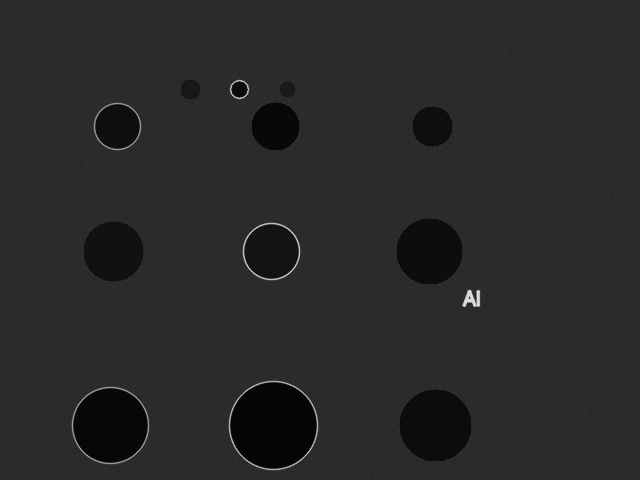hole: (229, 381, 317, 469), (72, 387, 148, 463), (399, 389, 471, 461), (396, 218, 462, 284), (83, 221, 143, 281), (243, 223, 299, 279), (251, 102, 299, 150), (94, 103, 140, 149), (412, 106, 452, 146), (180, 79, 200, 99), (230, 80, 248, 98), (279, 81, 295, 97)
